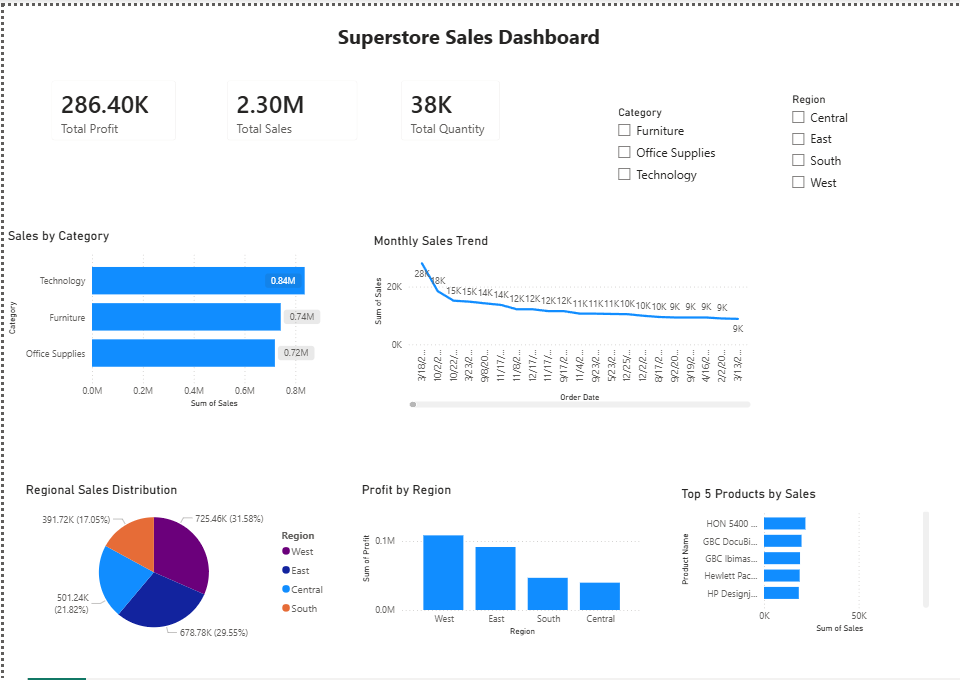

The page's visual inventory and layout, read from the dashboard file:
{"tool":"powerbi","page":{"name":"Sales Overview","canvas":[1280,720],"ordinal":0},"visuals":[{"type":"cardVisual","fields":{"Data":["Sales_Data.Total Revenue"]},"box":[0,163.5,181.4,137.6],"z":0},{"type":"cardVisual","fields":{"Data":["Sales_Data.Total Profit"]},"box":[181.4,163.5,171.6,152.2],"z":1},{"type":"cardVisual","fields":{"Data":["Sales_Data.Total Orders"]},"box":[353,170,184.6,137.6],"z":2},{"type":"cardVisual","fields":{"Data":["Sales_Data.Profit Margin %"]},"box":[511.7,170,184.6,137.6],"z":3},{"type":"lineStackedColumnComboChart","fields":{"Category":["Sales_Data.Month"],"Y":["Sales_Data.Total Revenue"]},"box":[799.9,142.5,479.3,223.5],"z":4},{"type":"pieChart","fields":{"Y":["Sales_Data.Total Revenue"],"Category":["Sales_Data.Region"]},"box":[32.4,365.9,479.3,223.5],"z":5},{"type":"clusteredBarChart","fields":{"Category":["Sales_Data.Product"],"Y":["Sales_Data.Total Revenue"]},"box":[728.7,424.2,479.3,223.5],"z":6},{"type":"textbox","box":[490.6,37.2,296.3,38.9],"z":15}]}

Visuals, with their boxes on the page's 1280x720 design canvas (x1, y1, x2, y2). These are canvas units, not pixel positions in the 960x680 screenshot, which may show the page scaled, cropped or inside an application window:
cardVisual - Sales_Data.Total Revenue: {"left": 0, "top": 164, "right": 181, "bottom": 301}
cardVisual - Sales_Data.Total Profit: {"left": 181, "top": 164, "right": 353, "bottom": 316}
cardVisual - Sales_Data.Total Orders: {"left": 353, "top": 170, "right": 538, "bottom": 308}
cardVisual - Sales_Data.Profit Margin %: {"left": 512, "top": 170, "right": 696, "bottom": 308}
lineStackedColumnComboChart - Sales_Data.Month x Sales_Data.Total Revenue: {"left": 800, "top": 142, "right": 1279, "bottom": 366}
pieChart - Sales_Data.Total Revenue x Sales_Data.Region: {"left": 32, "top": 366, "right": 512, "bottom": 589}
clusteredBarChart - Sales_Data.Product x Sales_Data.Total Revenue: {"left": 729, "top": 424, "right": 1208, "bottom": 648}
textbox: {"left": 491, "top": 37, "right": 787, "bottom": 76}
